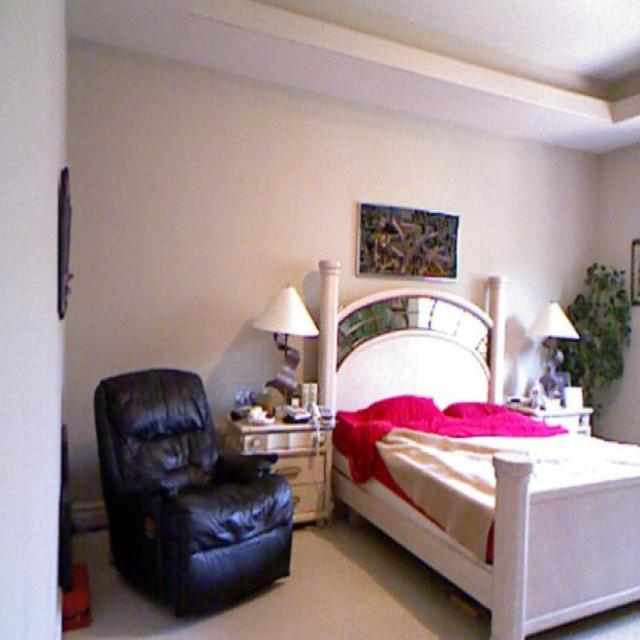obstacle: (316, 250, 640, 608), (75, 345, 304, 622), (228, 280, 339, 536)
